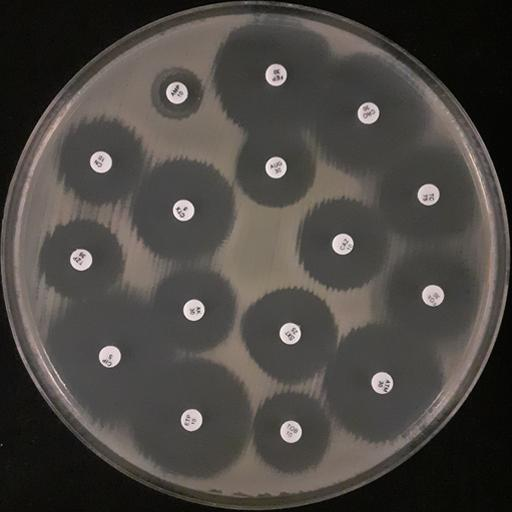disc: (421, 284, 444, 307), (180, 408, 203, 431), (70, 248, 93, 271), (172, 199, 195, 222), (265, 63, 287, 86), (357, 102, 380, 124), (371, 372, 394, 394), (280, 420, 302, 443), (99, 345, 121, 368), (165, 82, 188, 104), (265, 157, 287, 179), (332, 233, 354, 255), (279, 322, 301, 344), (183, 299, 205, 321), (90, 151, 112, 173), (417, 184, 440, 205)
